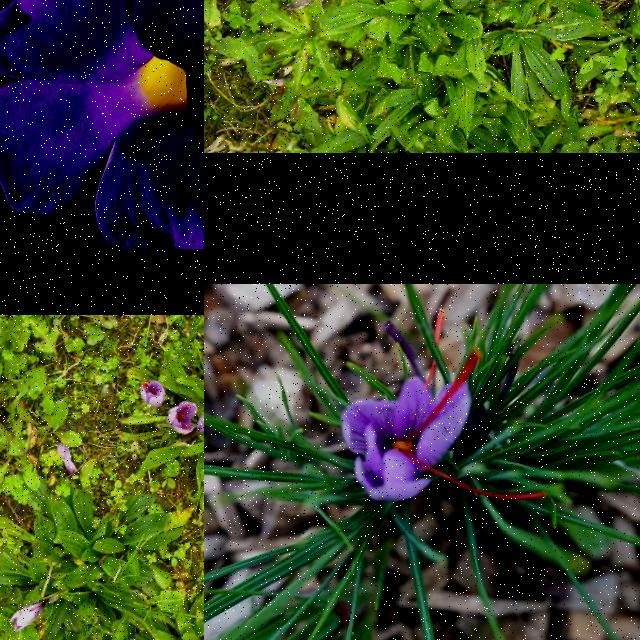flower: (342, 310, 546, 502), (9, 601, 47, 633), (168, 401, 198, 435), (142, 381, 166, 409), (196, 408, 204, 436)
